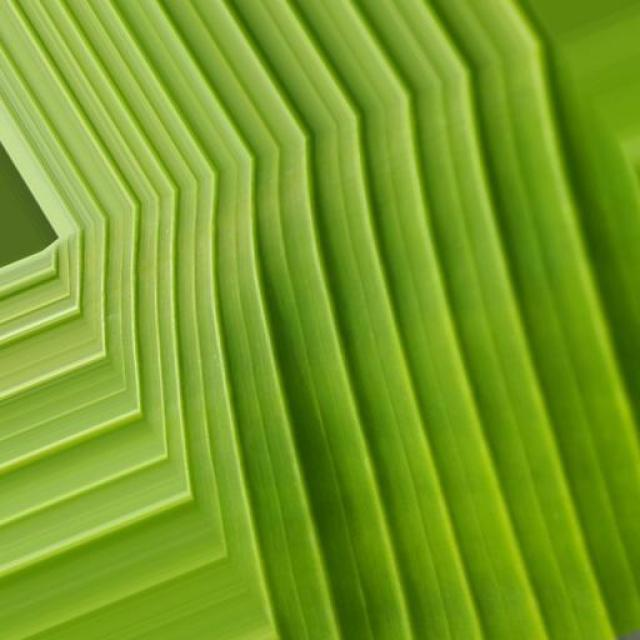Black_leaf_spot: (21, 51, 640, 618)
